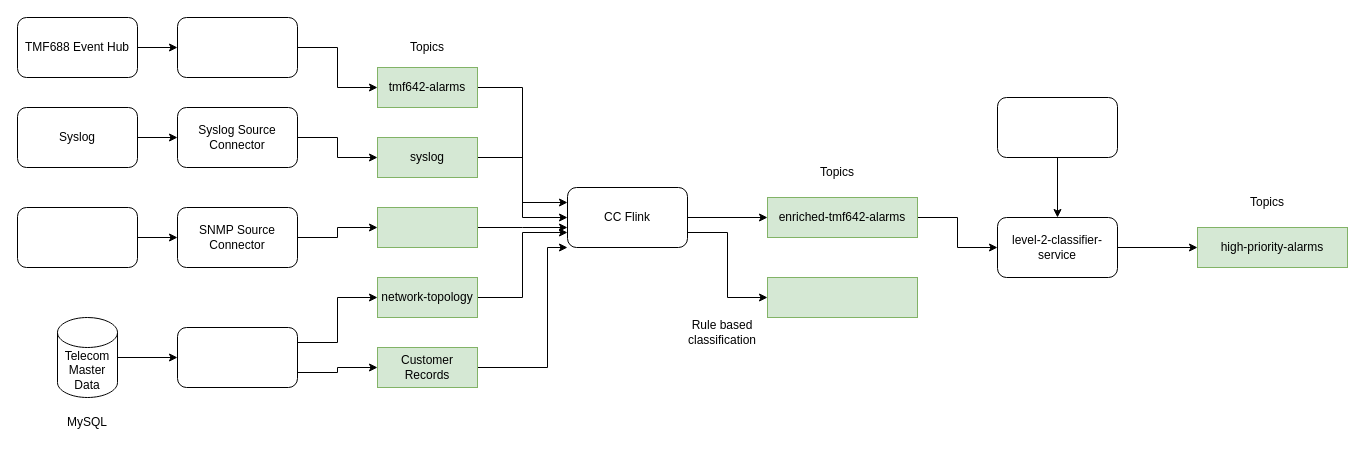
Some shapes in this 1365 by 455 pixel diagram are drawn without their labels. The box of each missing label's shape, as (x1, y1, x2, y2) in pixels:
LLM: (996, 96, 1118, 158)
low-priority-alarms: (766, 276, 918, 318)
MySQL Source Connector: (176, 326, 298, 388)
SNMP Traps: (16, 206, 138, 268)
snmp-traps: (376, 206, 478, 248)
TMF642 Alarms: (176, 16, 298, 78)
